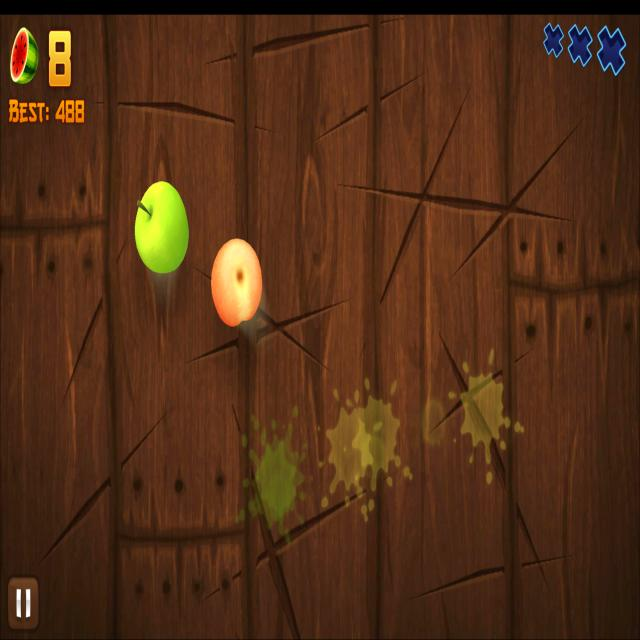fruit: (134, 180, 190, 274), (209, 236, 263, 328)
